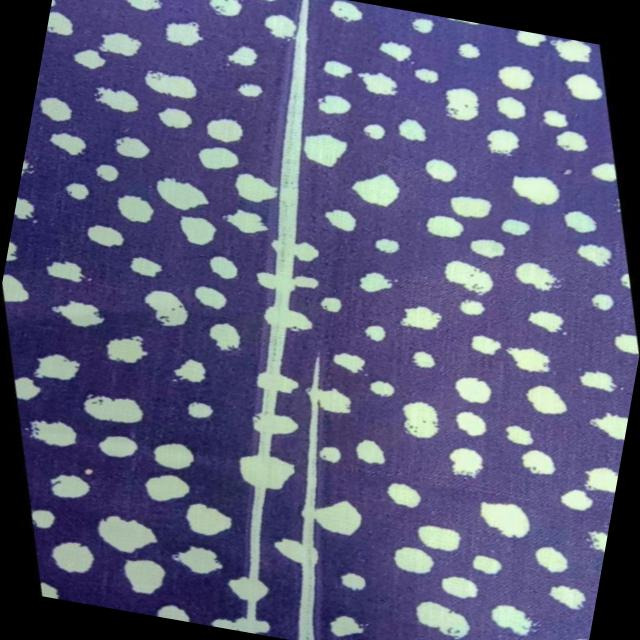selvet: (49, 0, 515, 640)
